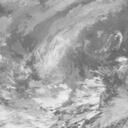cyclone: (25, 38, 100, 105)
